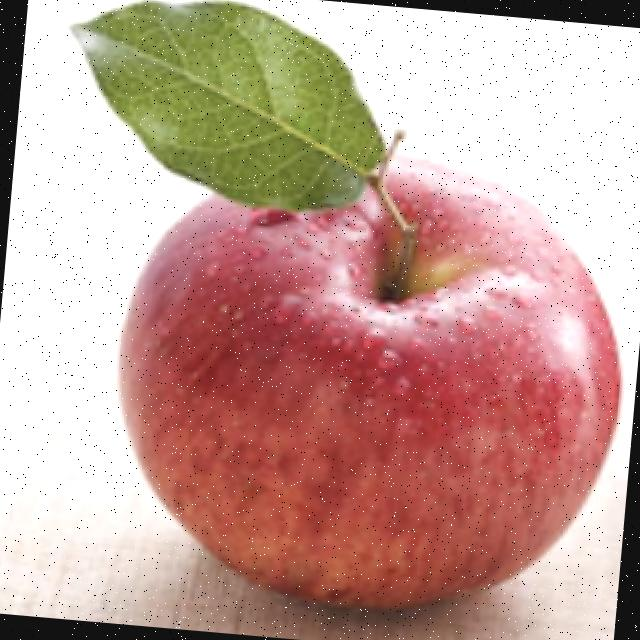Ripe: (90, 113, 640, 638)
